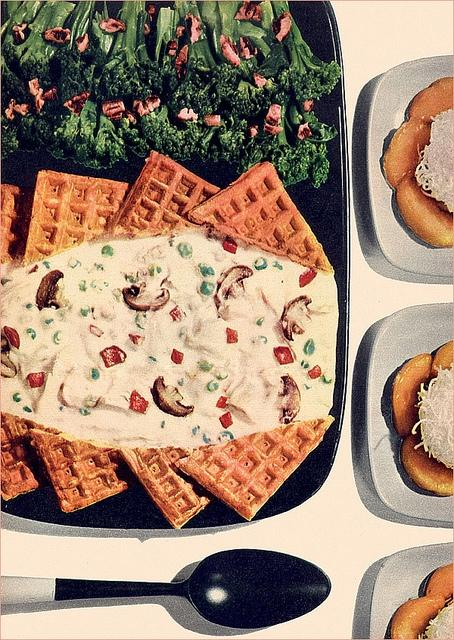broccoli: (167, 1, 242, 131), (198, 0, 278, 117), (236, 92, 330, 190), (92, 0, 163, 108), (270, 0, 341, 101), (3, 0, 76, 92), (46, 96, 128, 170), (1, 0, 45, 114), (124, 102, 202, 162), (53, 0, 96, 106), (194, 109, 246, 164), (155, 6, 184, 100), (257, 1, 289, 78), (82, 0, 114, 67), (0, 113, 19, 160)
mushroom: (122, 264, 170, 312), (213, 264, 253, 320), (152, 375, 194, 417), (279, 294, 313, 342), (35, 270, 70, 310), (276, 376, 302, 424), (1, 328, 18, 378)
